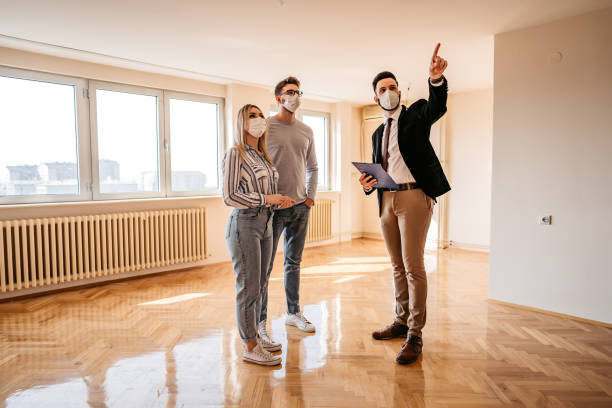with mask: (366, 69, 405, 116), (235, 99, 269, 141), (275, 77, 309, 114)
